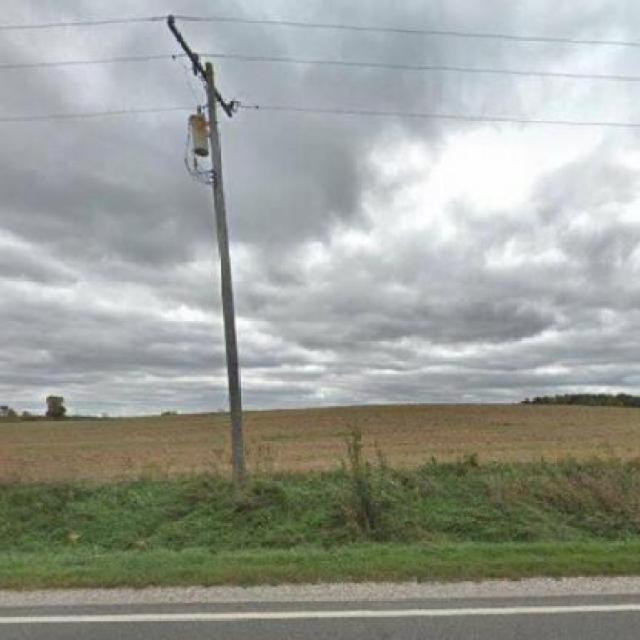pole: (152, 10, 279, 478)
